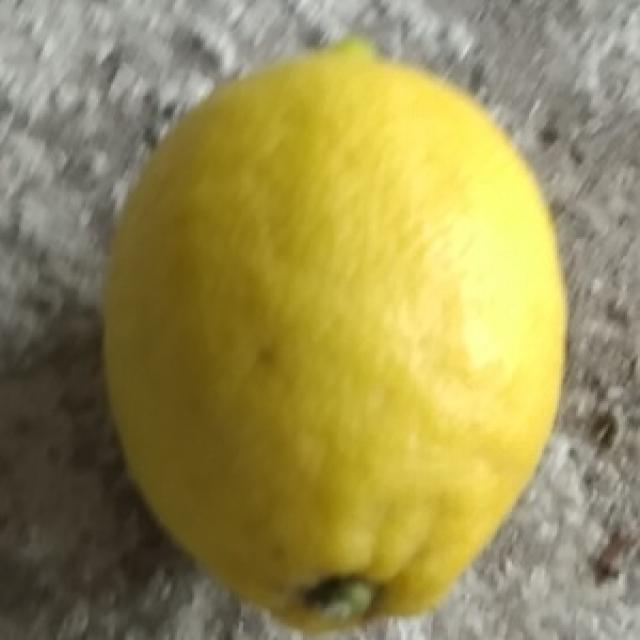Ripe: (100, 33, 570, 628)
